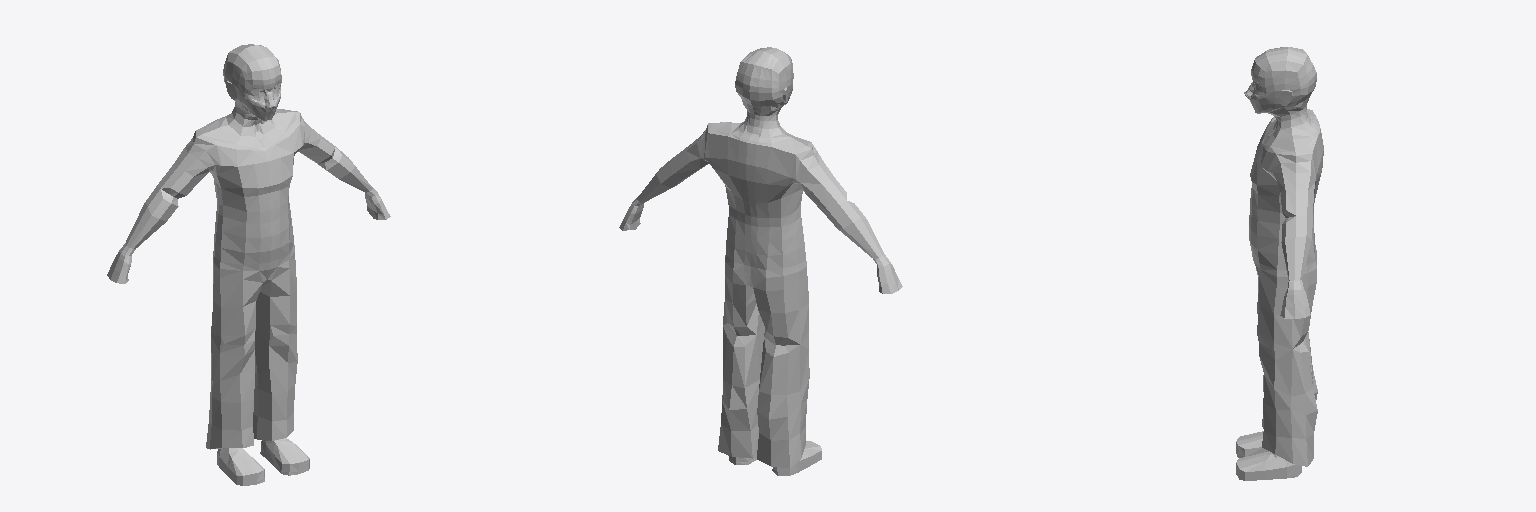
The model's file is Avery.obj.
3 views of the same model, side by side, from view 1: azimuth 30°, elevation 25°; view 2: azimuth 150°, elevation 25°; view 3: azimuth 270°, elevation 25° (orthographic).
Visible parts, largest first — view 1: Cube.013; view 2: Cube.013; view 3: Cube.013.
Part boxes in pixels (x1,y1,x2,y2): Cube.013: (107,44,390,485); Cube.013: (619,47,902,475); Cube.013: (1236,47,1323,480).
Size of the model in its own units: 3.62 by 5.19 by 0.9976.